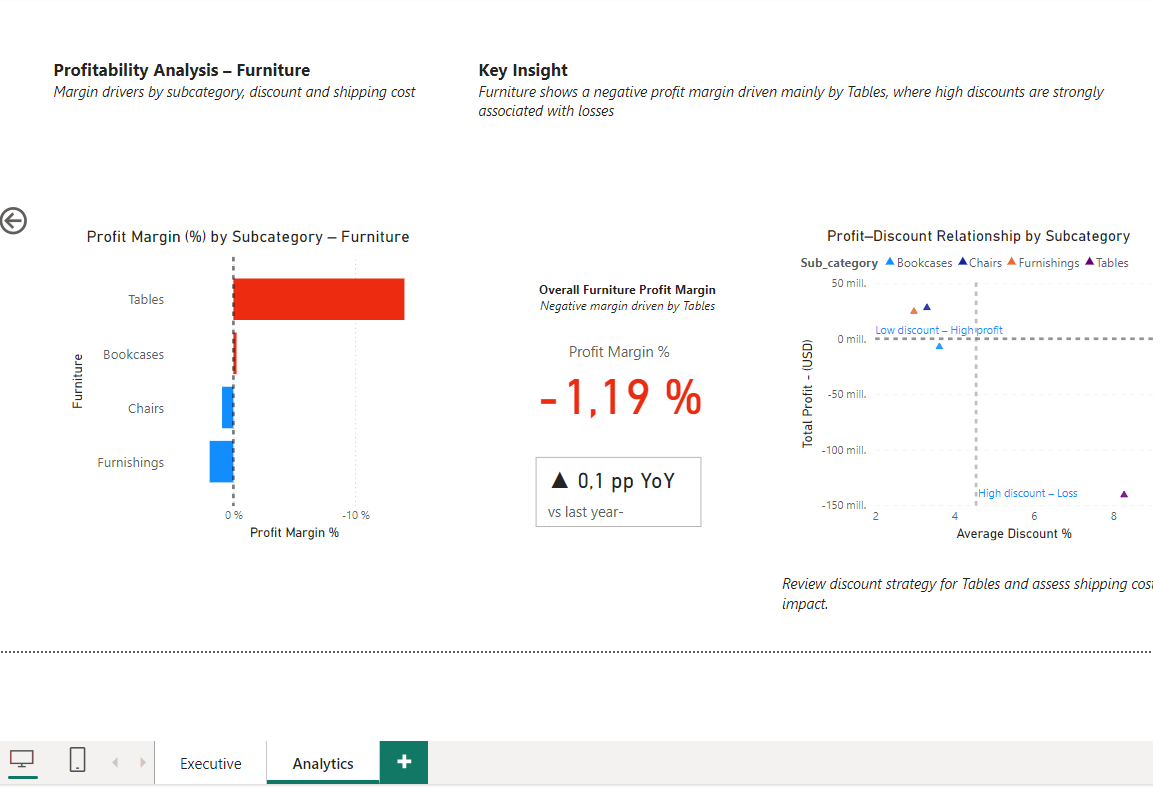

This screenshot's page, from the dashboard's own definition file:
{"tool":"powerbi","page":{"name":"Analytics","canvas":[1280,720],"ordinal":1},"visuals":[{"type":"actionButton","box":[0,227.2,100,40],"z":0},{"type":"clusteredBarChart","title":"Profit Margin (%) by Subcategory – Furniture","fields":{"Category":["SuperStoreOrders.sub_category"],"Y":["SuperStoreOrders.Margen % KPI"]},"box":[78.2,253.9,399.3,349.9],"z":1000},{"type":"scatterChart","title":"Profit–Discount Relationship by Subcategory","fields":{"X":["Avg(SuperStoreOrders.discount)"],"Y":["Sum(SuperStoreOrders.profit)"],"Series":["SuperStoreOrders.sub_category"]},"box":[879.6,253.9,400.7,349.9],"z":2000},{"type":"cardVisual","fields":{"Data":["SuperStoreOrders.Margen % KPI"]},"box":[509.1,359.5,350,130],"z":3000},{"type":"textbox","box":[59,64.5,466.6,124.9],"z":4000},{"type":"textbox","box":[525.6,64.5,712.2,124.9],"z":5000},{"type":"textbox","box":[546.1,308.7,296.4,50.8],"z":6000},{"type":"cardVisual","fields":{"Data":["SuperStoreOrders.Profit Margin YoY Text"]},"box":[588.7,502.2,192.1,87.8],"z":7000},{"type":"textbox","box":[859,629.8,421.3,70],"z":8000}]}

Visuals, with their boxes on the page's 1280x720 design canvas (x1, y1, x2, y2). These are canvas units, not pixel positions in the 1153x787 screenshot, which may show the page scaled, cropped or inside an application window:
actionButton: detection(0, 227, 100, 267)
"Profit Margin (%) by Subcategory – Furniture" clusteredBarChart: detection(78, 254, 478, 604)
"Profit–Discount Relationship by Subcategory" scatterChart: detection(880, 254, 1280, 604)
cardVisual - SuperStoreOrders.Margen % KPI: detection(509, 360, 859, 490)
textbox: detection(59, 64, 526, 189)
textbox: detection(526, 64, 1238, 189)
textbox: detection(546, 309, 842, 360)
cardVisual - SuperStoreOrders.Profit Margin YoY Text: detection(589, 502, 781, 590)
textbox: detection(859, 630, 1280, 700)
